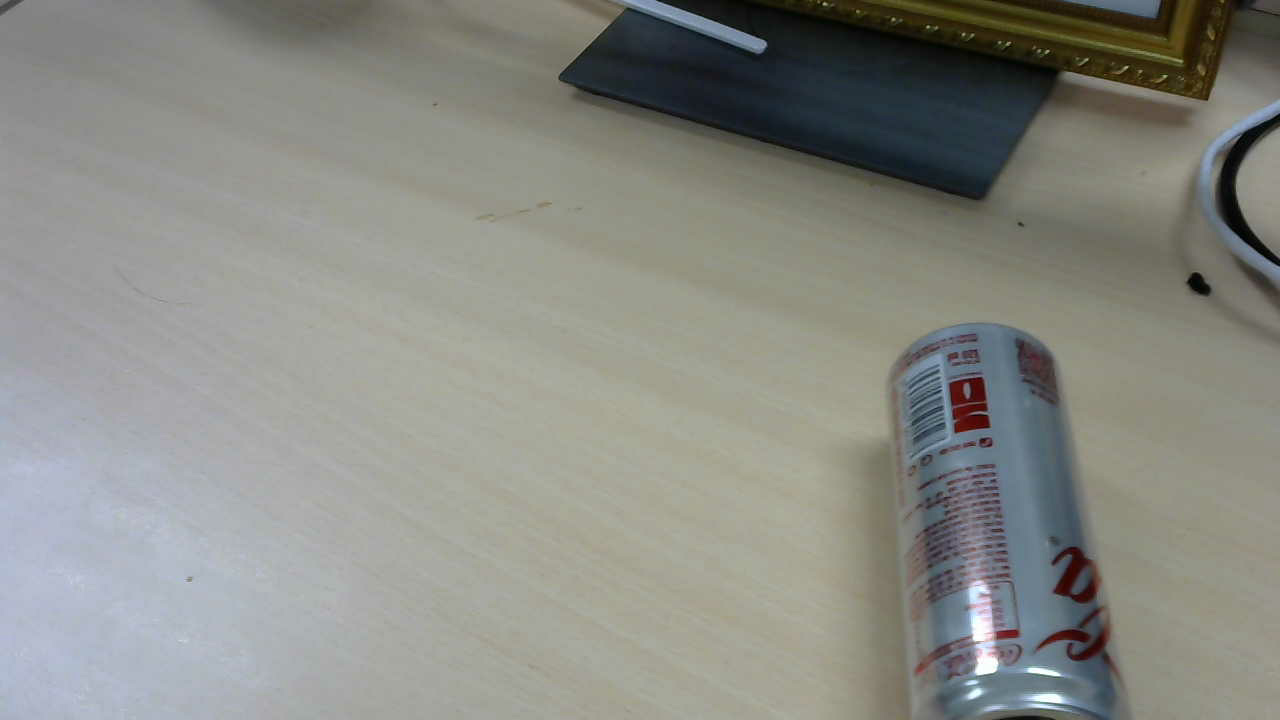Coca_Cola: (887, 328, 1124, 699)
